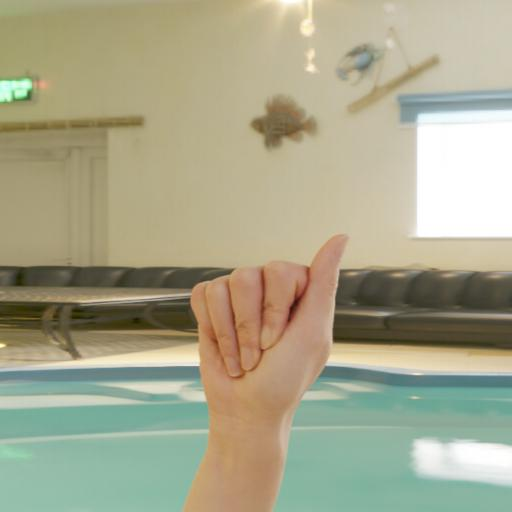A: (180, 227, 352, 403)
